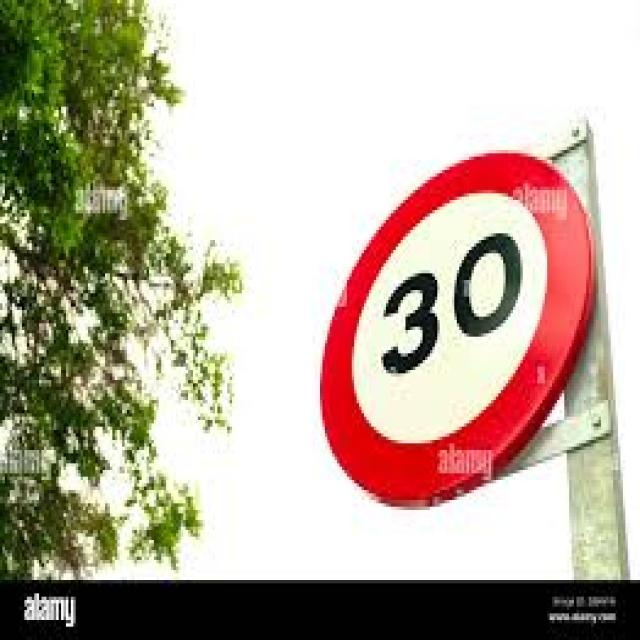speed_30: (319, 154, 595, 511)
